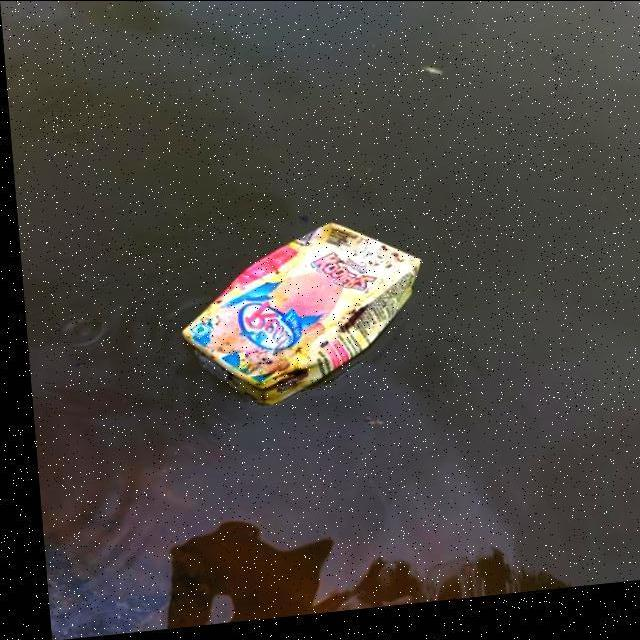Box: (178, 218, 420, 407)
